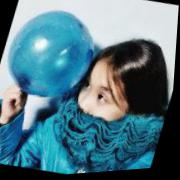WRONG: (67, 68, 132, 147)
